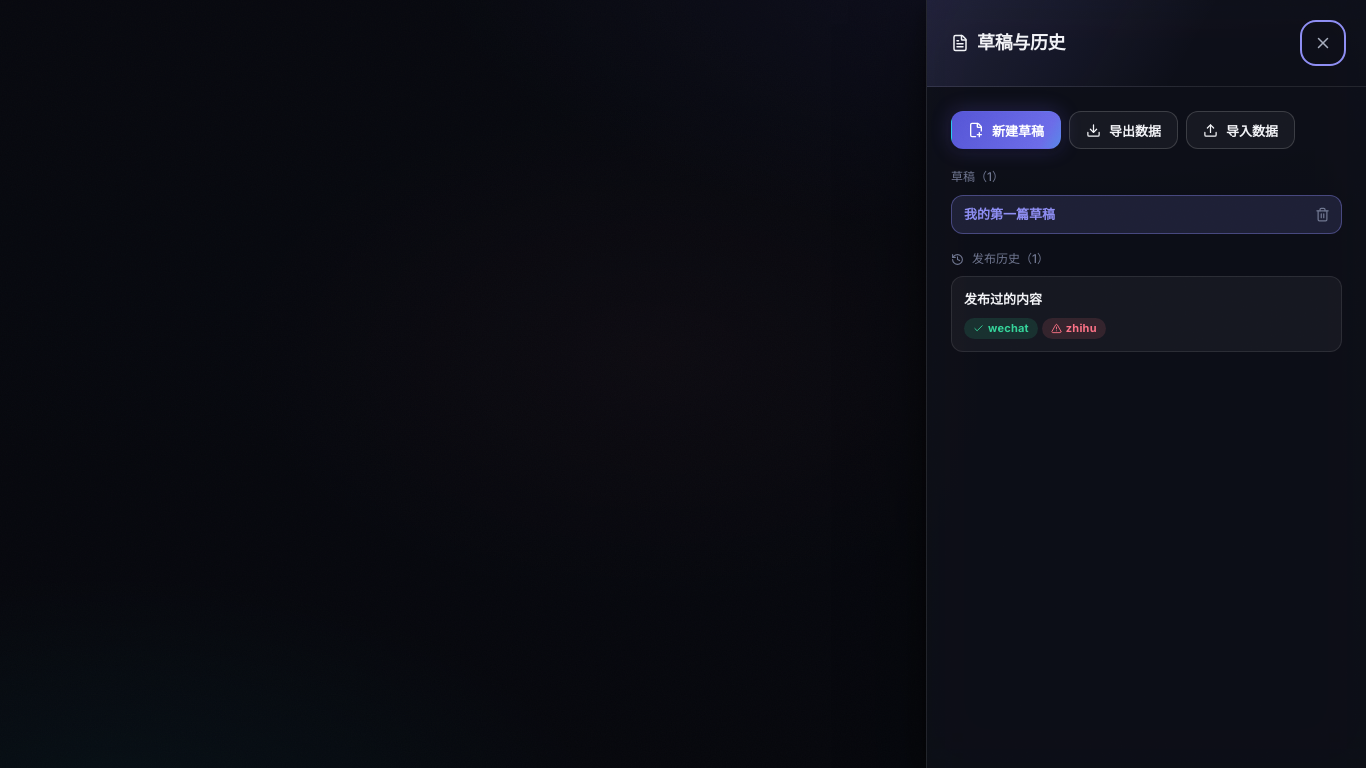
Test: DraftsDrawer — 草稿与历史抽屉 › 导出失败展示错误消息
The width and height of the screenshot is (1366, 768).
Click the button "导出数据".
click(1124, 130)  # box [1069,111,1178,149]
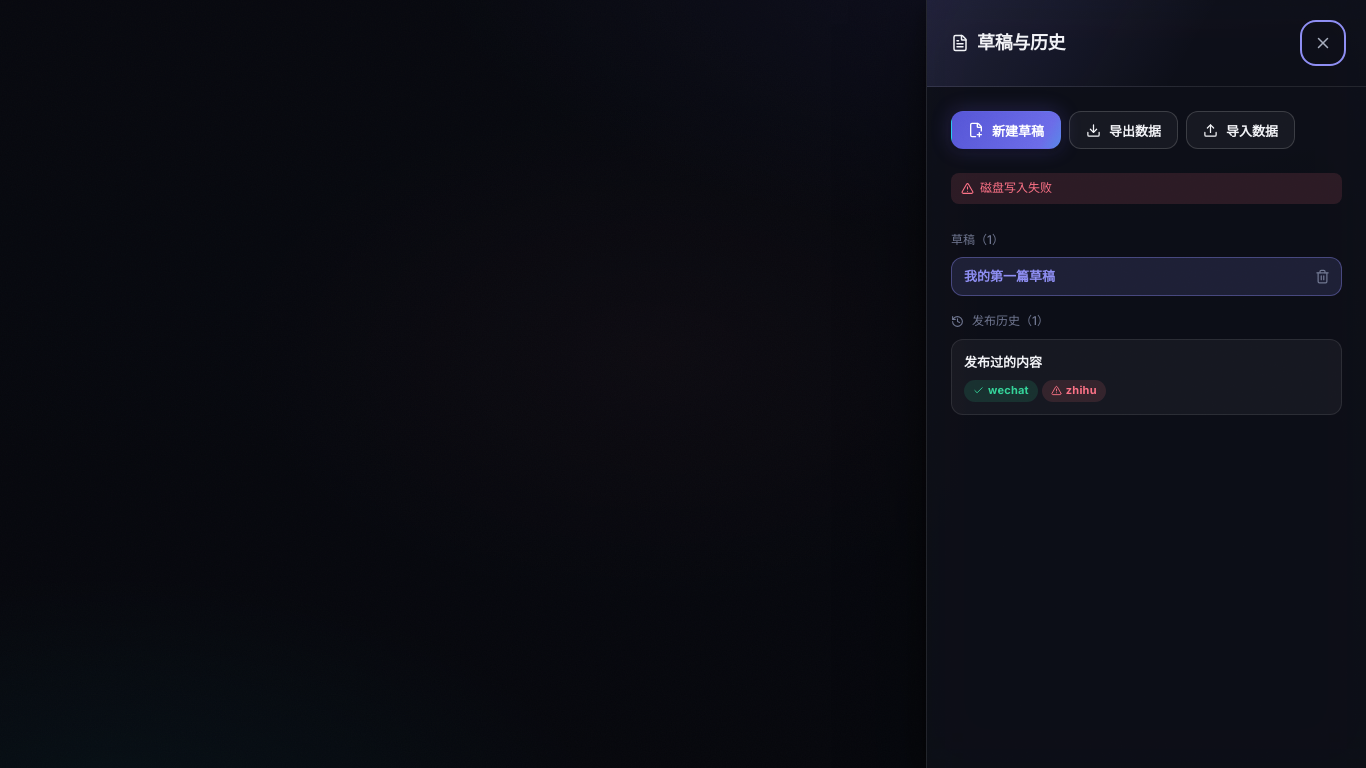
Expected: the text "磁盘写入失败" is shown, [951,173,1342,204]
